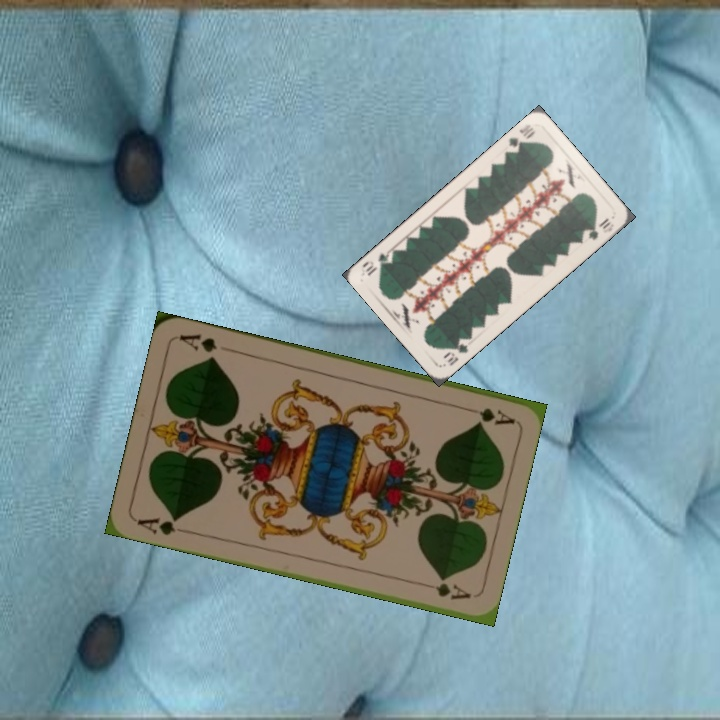G10: (505, 120, 538, 156), (439, 338, 471, 368)
GA: (132, 513, 192, 538), (458, 403, 517, 428)
